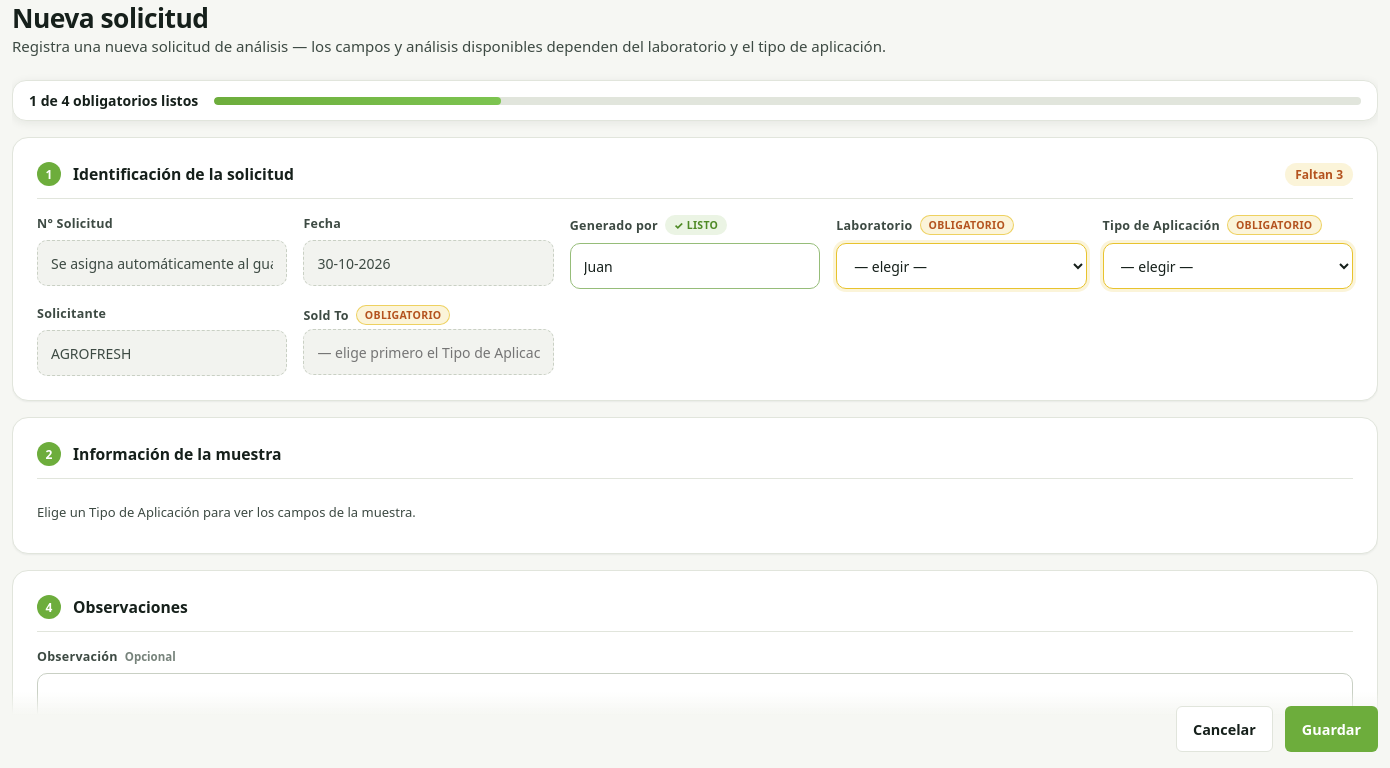
NuevaSolicitudView — crear › muestra analitos como tarjetas y permite indicar explícitamente que no hay dosis
Note: Elegir laboratorio y tipo de aplicación para que aparezcan las tarjetas.
Select "AgroFresh" in the dropdown labelled "Laboratorio": x=961, y=266 [836,243,1087,289]
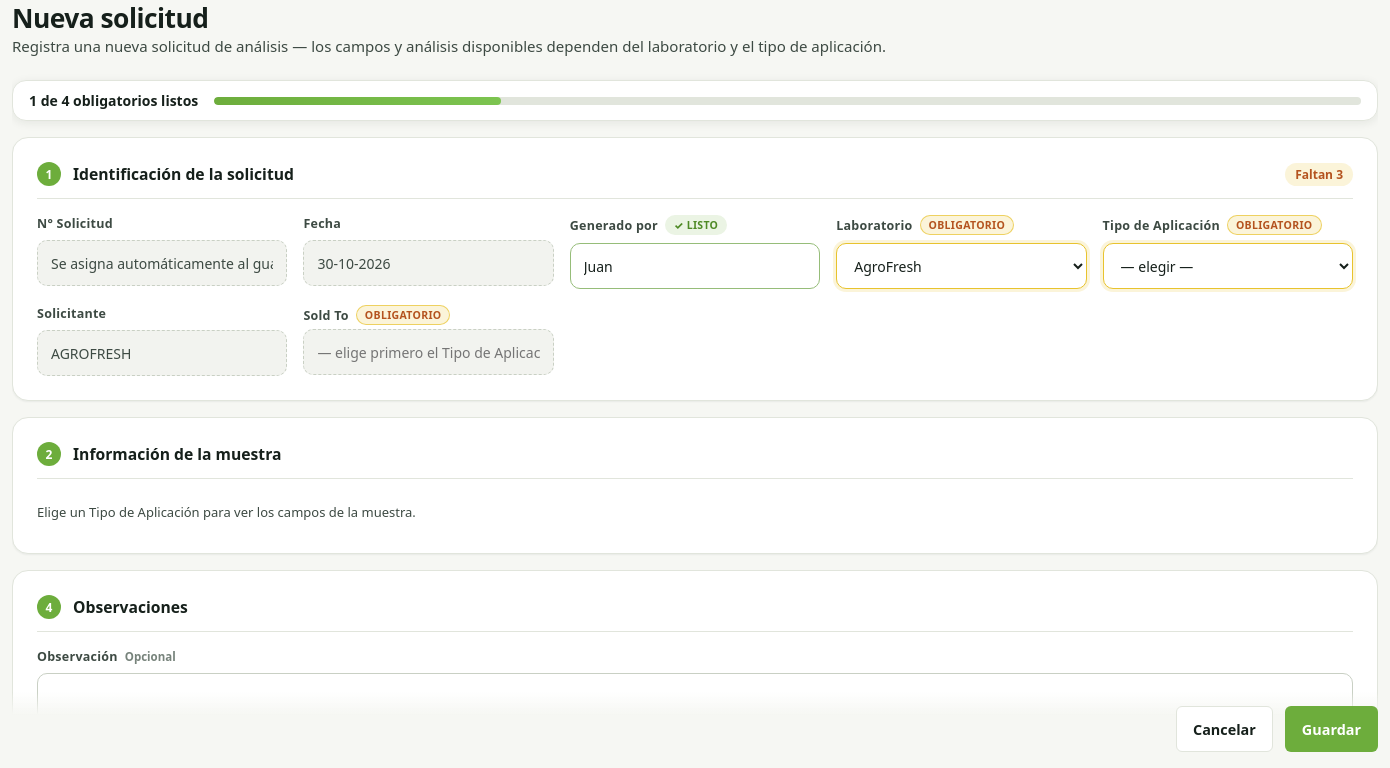
Select "Actimist" in the dropdown labelled "Tipo de Aplicación": x=1228, y=266 [1103,243,1353,289]
(page scrolled)
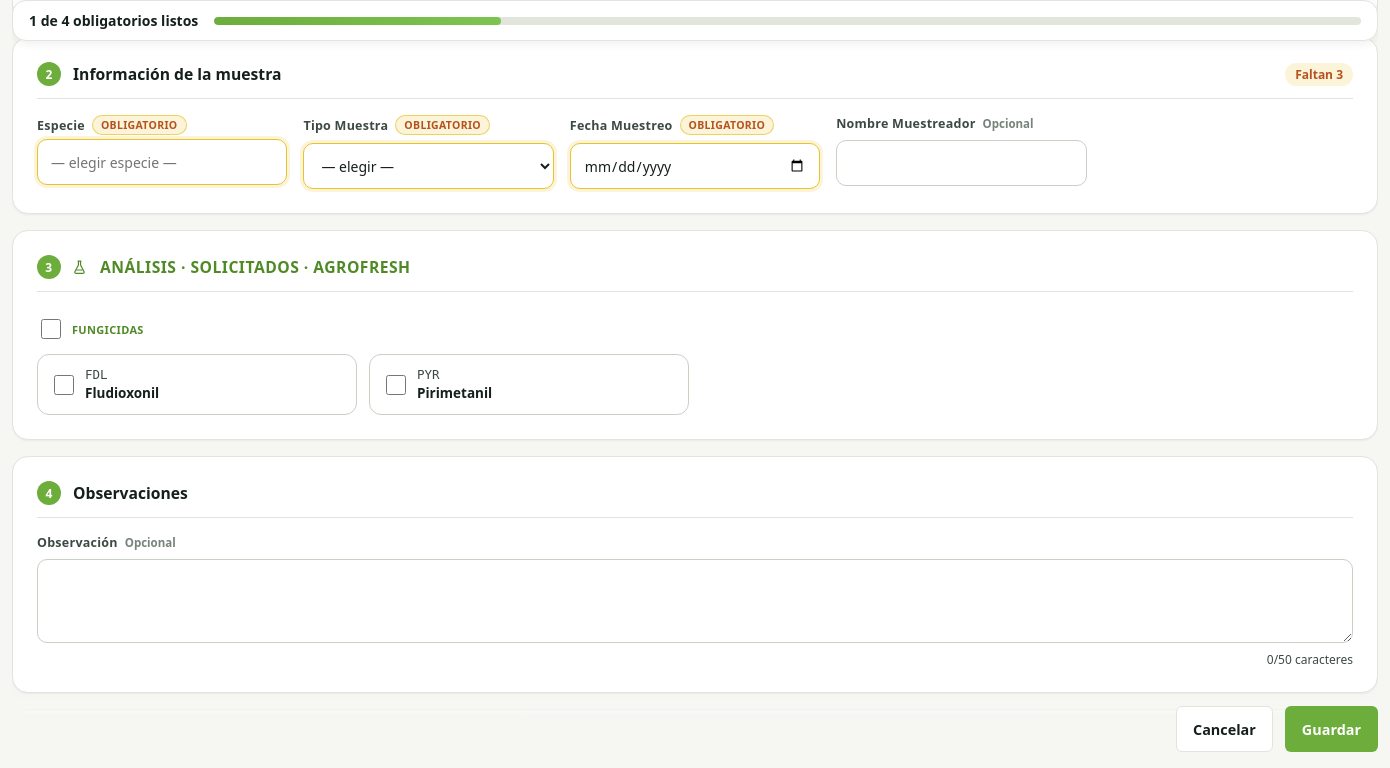
expect the text "FDL" is shown: met, box [85,367,108,382]
expect the checkbox labelled "FDL Fludioxonil" is shown: met
Click the checkbox labelled "FDL Fludioxonil": x=64, y=385 [54,375,74,395]
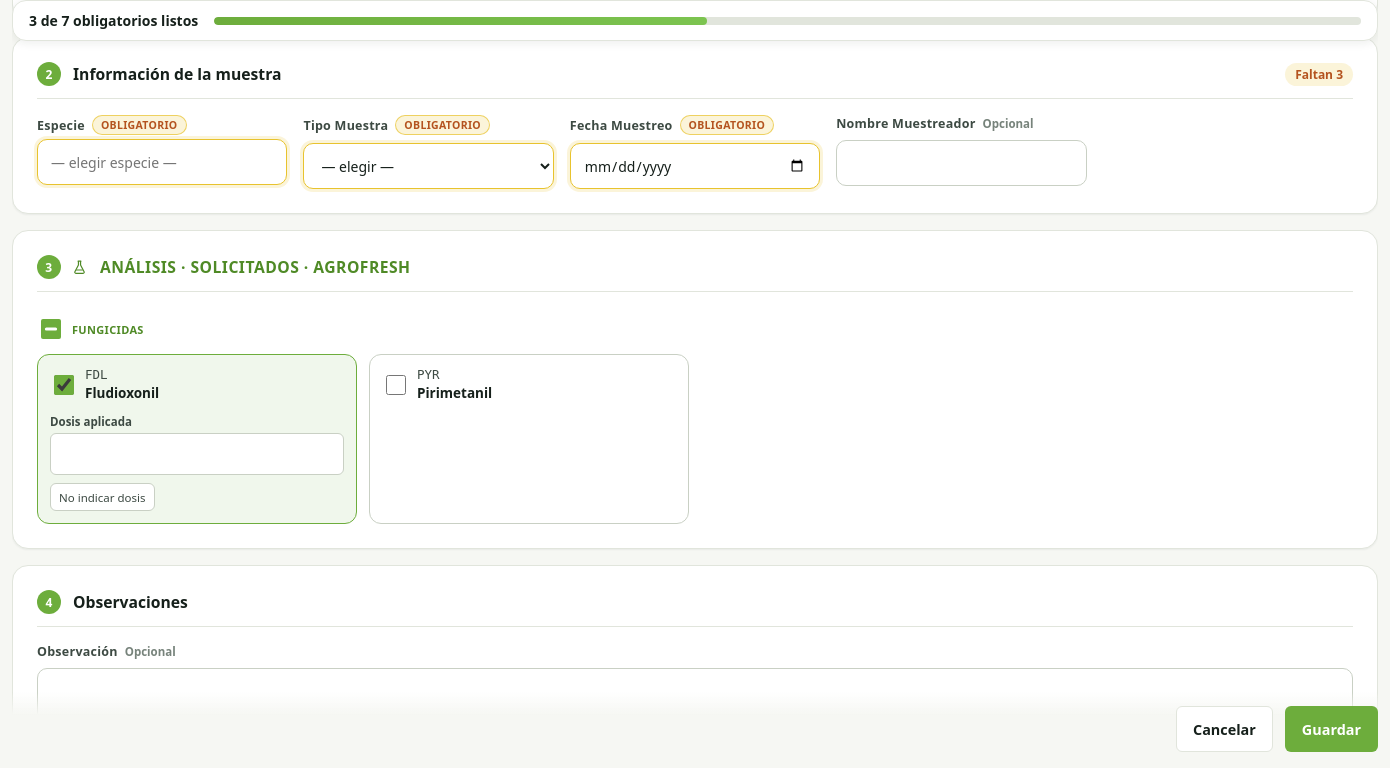
expect the field named "Dosis de" is shown: met, box [50,433,344,475]
Click the button "No indicar dosis": x=102, y=497 [50,483,154,511]
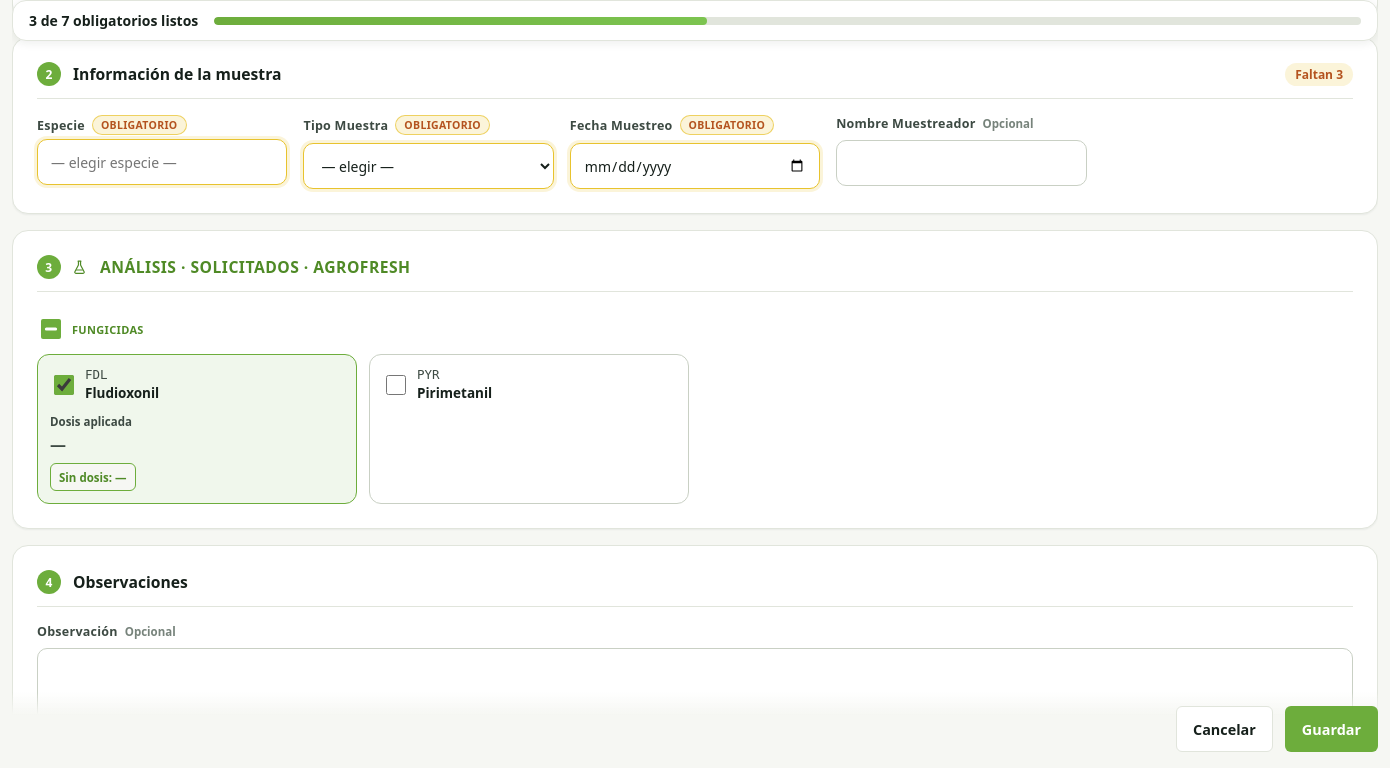
expect the button "Sin dosis: —" is shown: met, box [50,463,136,491]
